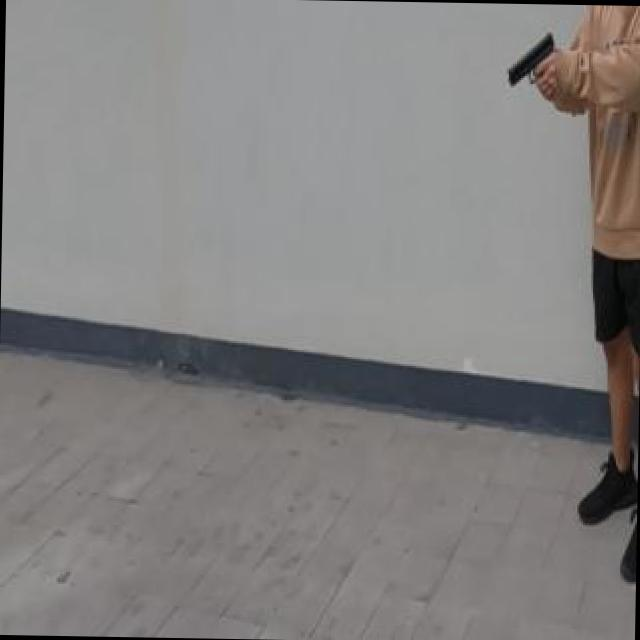Guns: (489, 10, 570, 119)
